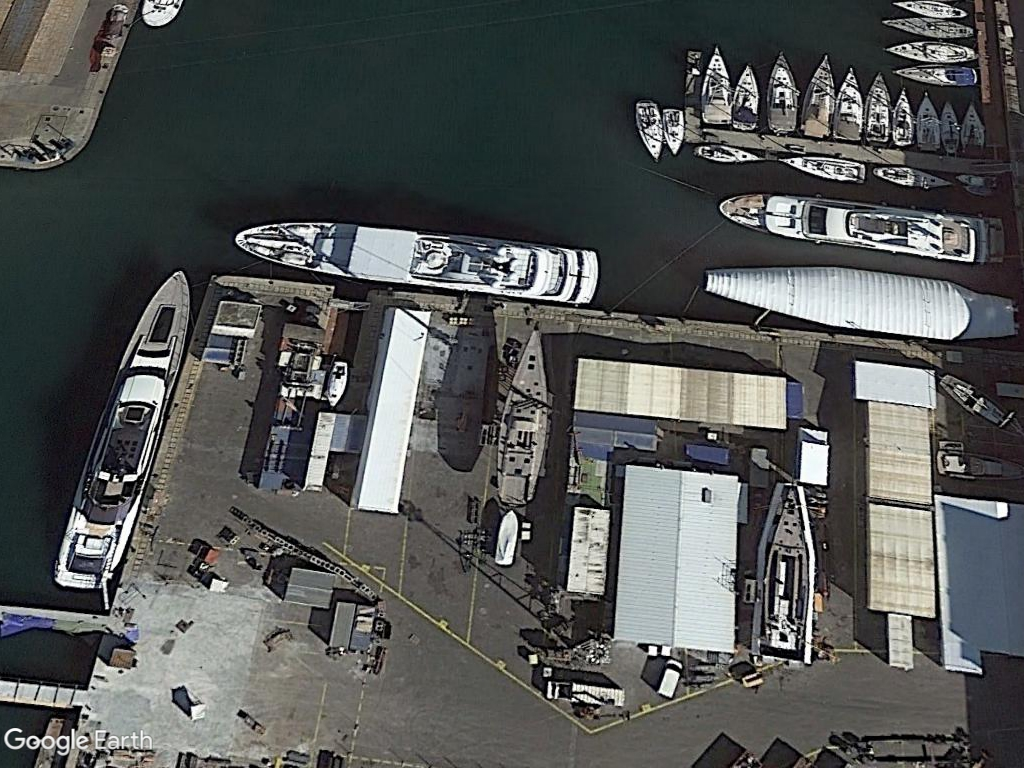boat: (227, 209, 604, 306), (713, 186, 1010, 265), (777, 151, 869, 186), (764, 47, 798, 137), (698, 41, 733, 127), (878, 36, 977, 64), (878, 14, 976, 41), (630, 95, 665, 167), (862, 63, 892, 145), (873, 161, 955, 189), (490, 504, 523, 569), (691, 139, 765, 166), (912, 86, 940, 154), (323, 357, 350, 411)
